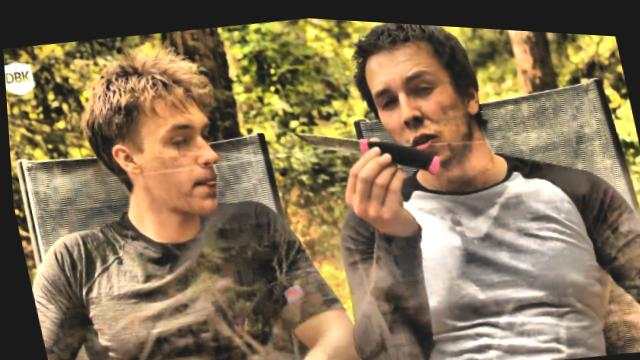knife: (279, 95, 449, 199)
